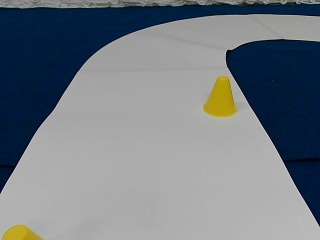cone: (204, 76, 237, 116), (1, 223, 40, 239)
